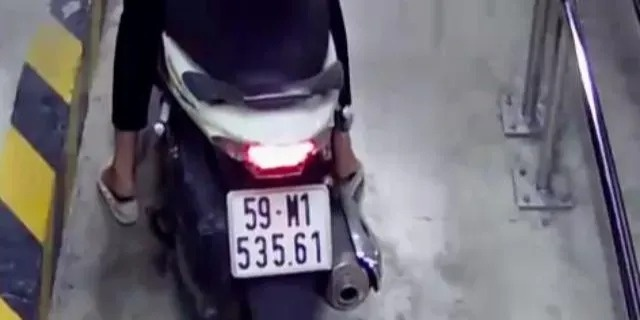bien_so: (226, 191, 336, 270)
